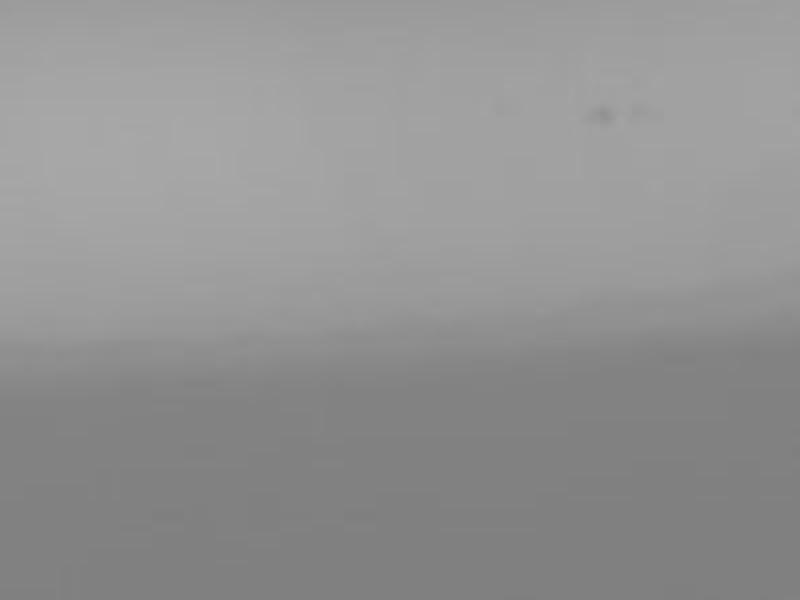defect: (588, 102, 615, 122)
